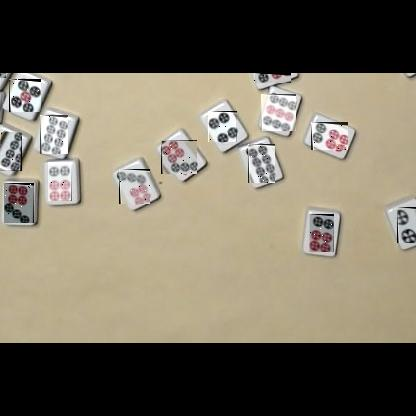1p: (0, 73, 6, 78)
2p: (397, 207, 416, 243)
4p: (208, 111, 237, 142)
5p: (9, 79, 41, 112)
6p: (311, 122, 348, 150), (309, 214, 334, 252), (48, 162, 72, 201), (254, 73, 291, 83)
7p: (161, 140, 197, 174), (4, 183, 34, 223), (119, 169, 150, 204)
8p: (40, 115, 68, 154), (248, 144, 275, 183), (0, 131, 22, 171)
9p: (261, 94, 296, 131)
